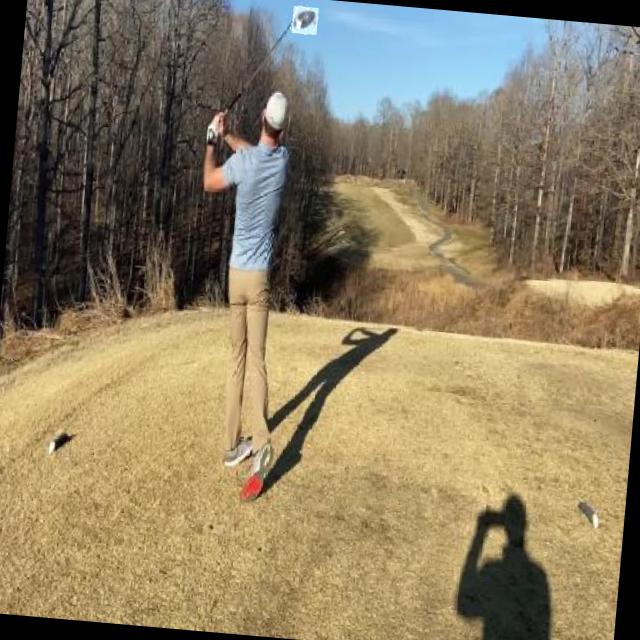club head: (291, 6, 318, 34)
